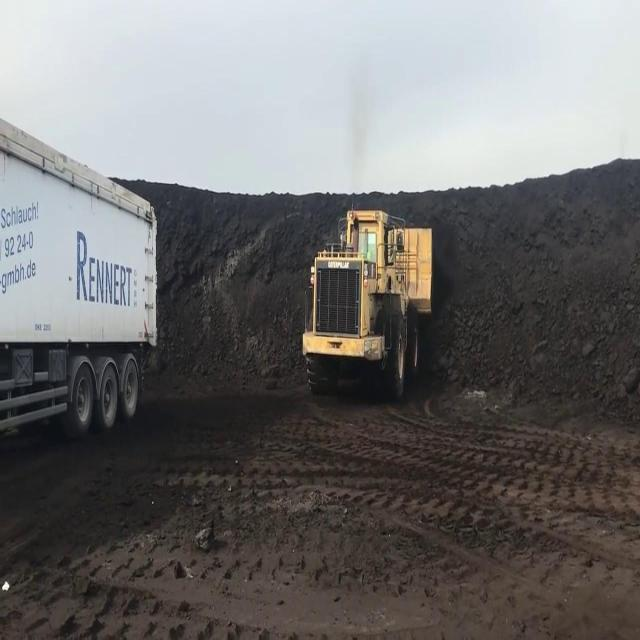buldozerpayloadergrader: (302, 204, 434, 404)
dump_truck: (0, 123, 159, 438)
